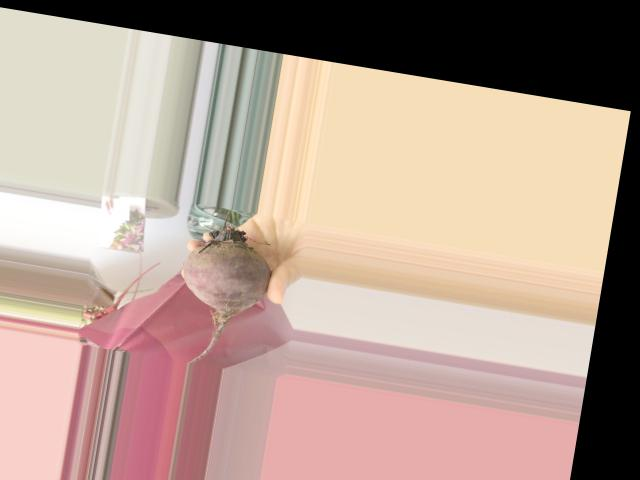beet: (167, 203, 280, 373)
